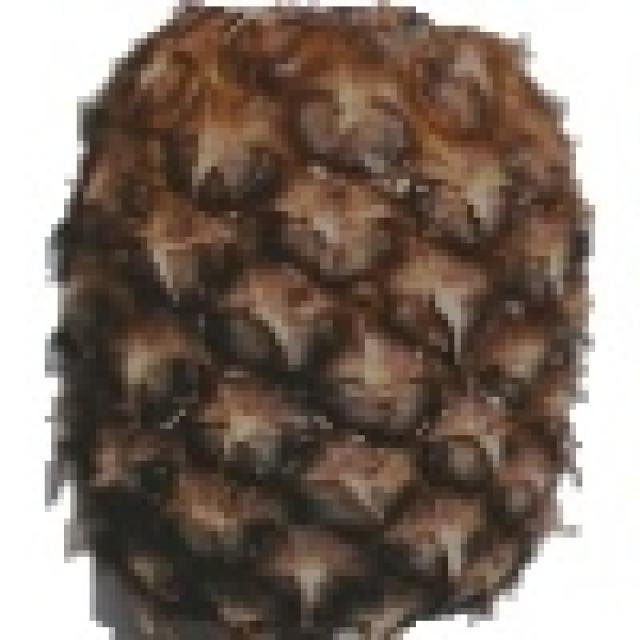pineapple: (51, 6, 591, 640)
